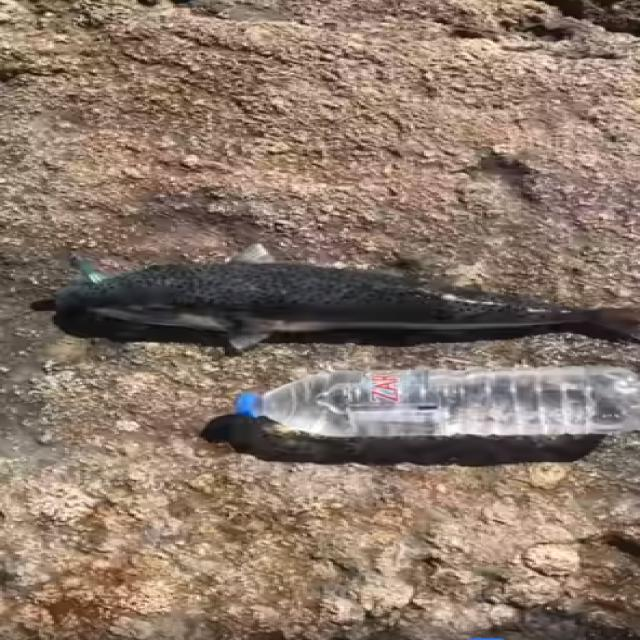Balik: (50, 245, 639, 353)
